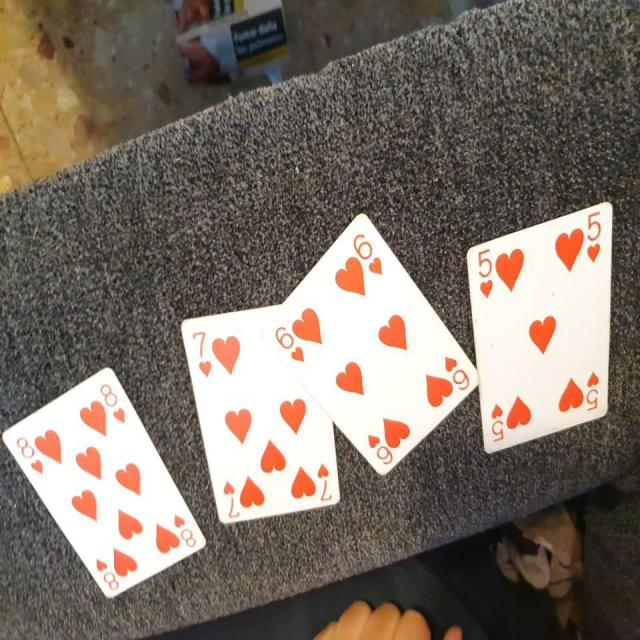5 Hearts: (461, 191, 614, 456)
6 Hearts: (264, 208, 482, 479)
7 Hearts: (176, 301, 348, 530)
8 Hearts: (1, 363, 216, 630)
